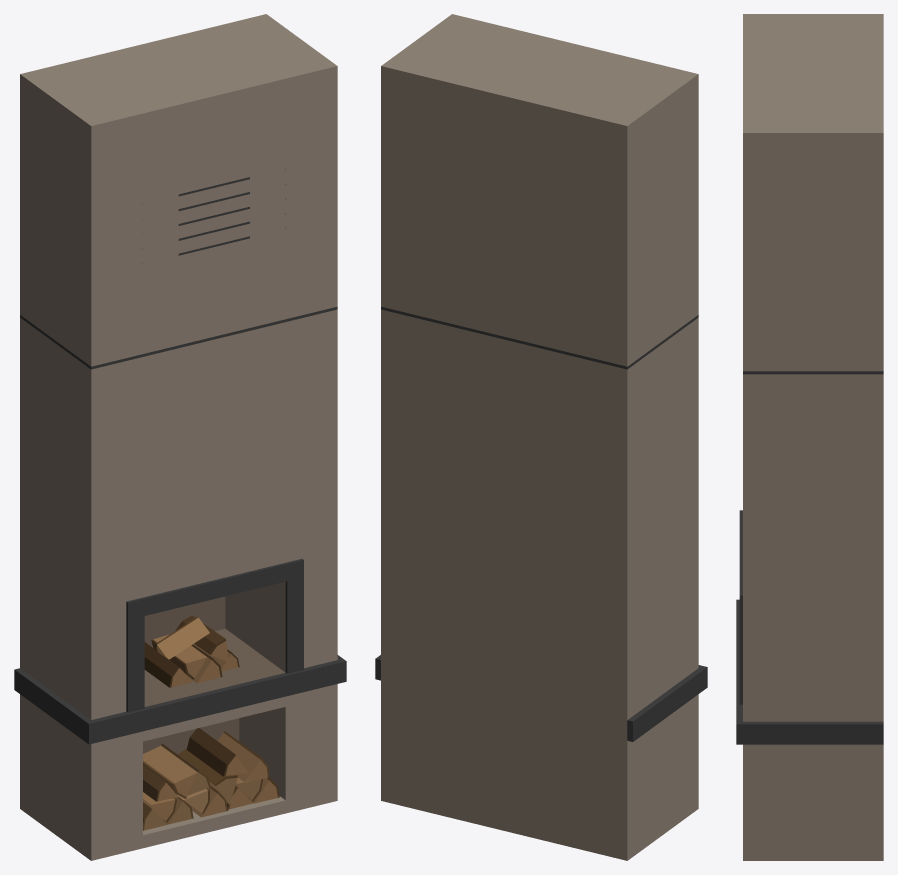
File: Fireplace_03.fbx
3 views of the same model, side by side, from view 1: azimuth 30°, elevation 25°; view 2: azimuth 150°, elevation 25°; view 3: azimuth 270°, elevation 25° (orthographic).
Visible parts, largest first — view 1: Fireplace_03; view 2: Fireplace_03; view 3: Fireplace_03.
Boxes of the visible parts, x1,y1,x2,y2 form: Fireplace_03: [14, 14, 346, 860]; Fireplace_03: [375, 14, 707, 860]; Fireplace_03: [736, 14, 883, 860].
Size of the model in its own units: 105 by 285 by 52.34.
